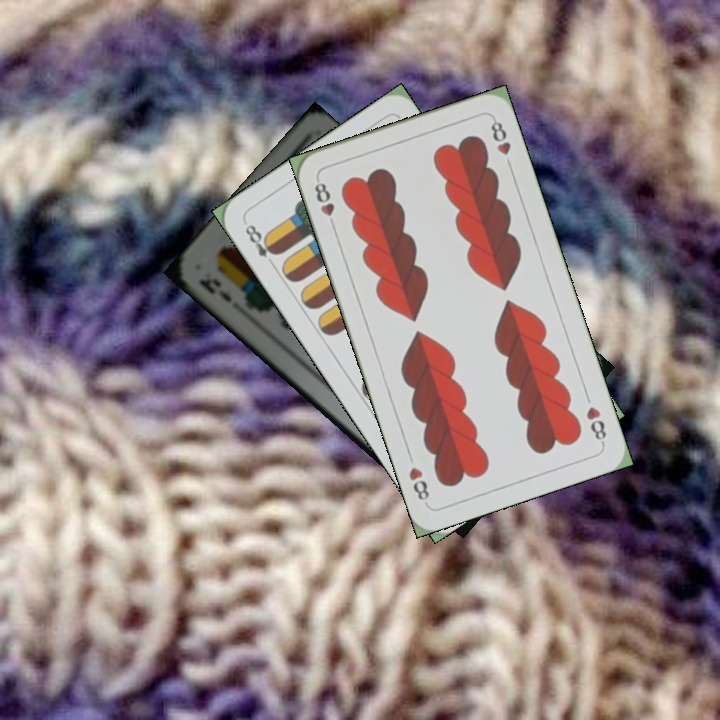E8: (241, 220, 281, 271)
EK: (195, 273, 235, 305)
H8: (310, 174, 339, 232), (582, 402, 609, 447)
